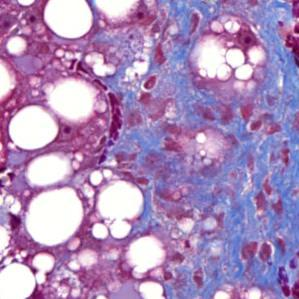steatosis: (24, 186, 85, 244), (10, 104, 57, 151)
